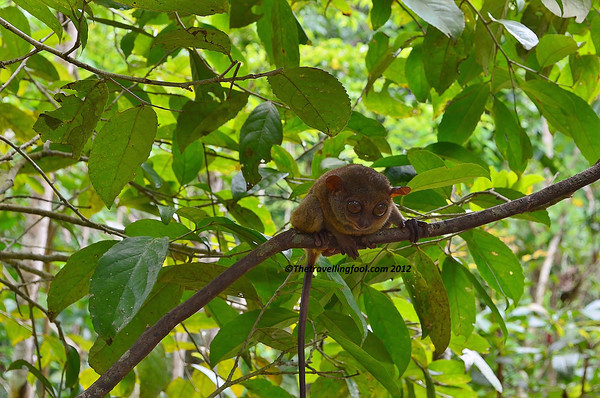tarsier: (285, 162, 428, 258)
